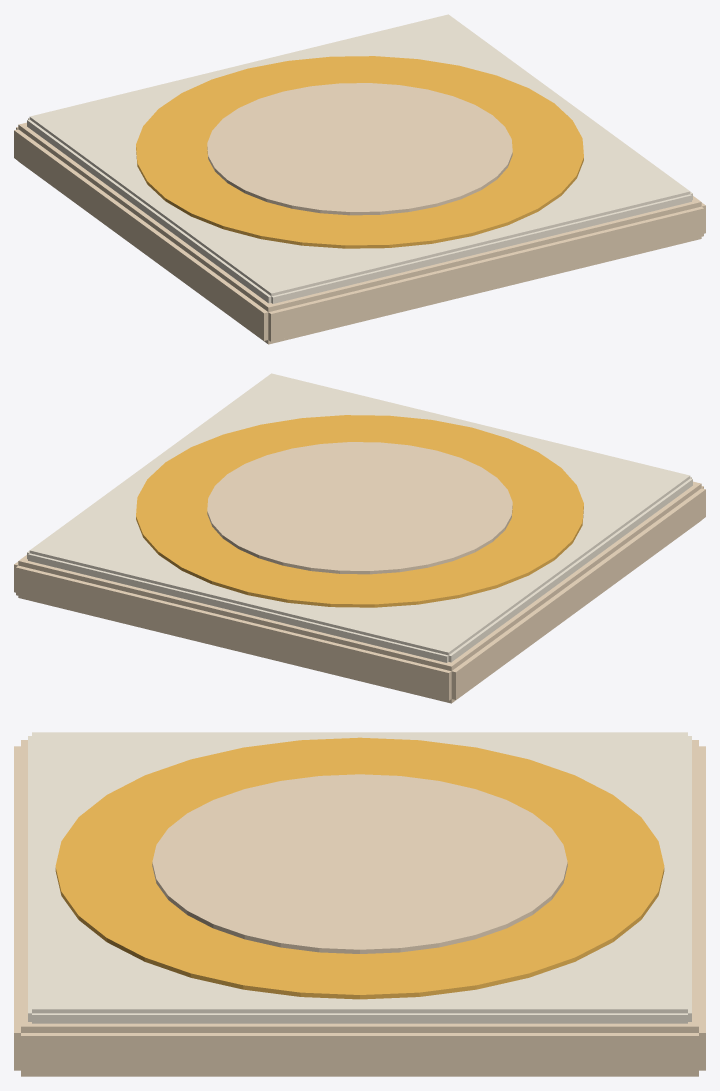
File: HOB_Tile_Circle.fbx
3 renders of one model, top to bottom at view 1: azimuth 30°, elevation 25°; view 2: azimuth 150°, elevation 25°; view 3: azimuth 270°, elevation 25°, orthographic. The views are drawn at different scales.
Parts seen in each view (by area): view 1: HOB_Tile_Circle; view 2: HOB_Tile_Circle; view 3: HOB_Tile_Circle.
Boxes of the visible parts, x1,y1,x2,y2 form: HOB_Tile_Circle: (14, 14, 705, 344); HOB_Tile_Circle: (14, 373, 705, 703); HOB_Tile_Circle: (14, 732, 705, 1076).
Size of the model in its own units: 100 by 11.4 by 100.
